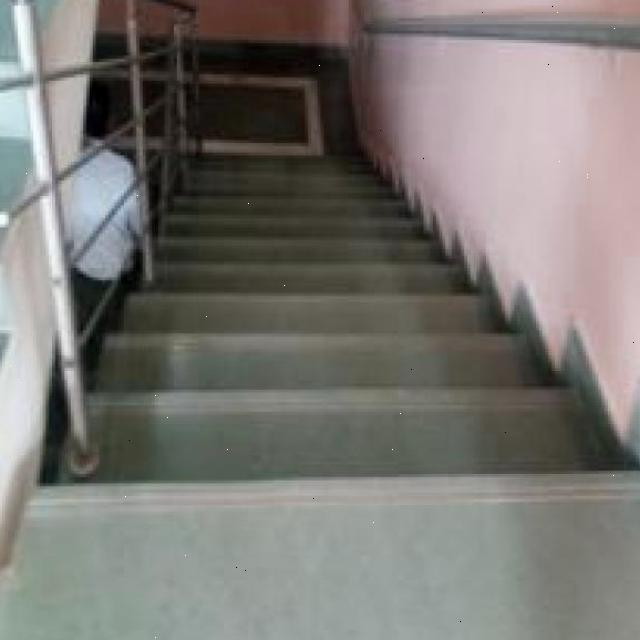stair: (81, 283, 599, 536)
